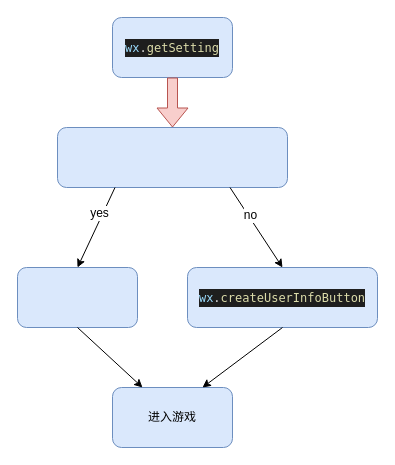
The diagram is 395 pixels wide and 465 high, and some of its shapes have lost their labels. Each missing label, with the centre of its shape:
authSetting [ 'scope.userInfo' ]: (172,157)
wx . getUserInfo: (77,297)
